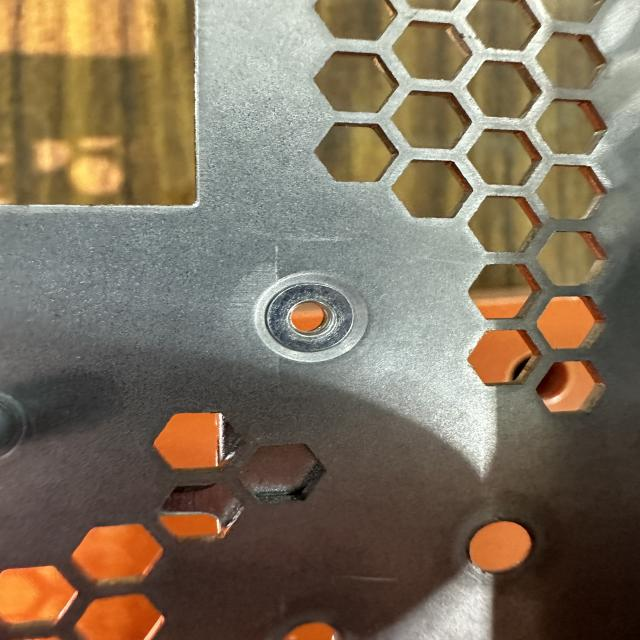Missing screw: (242, 260, 378, 366)
